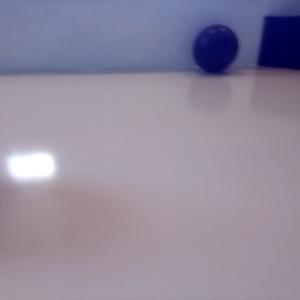zone: (257, 14, 300, 68)
